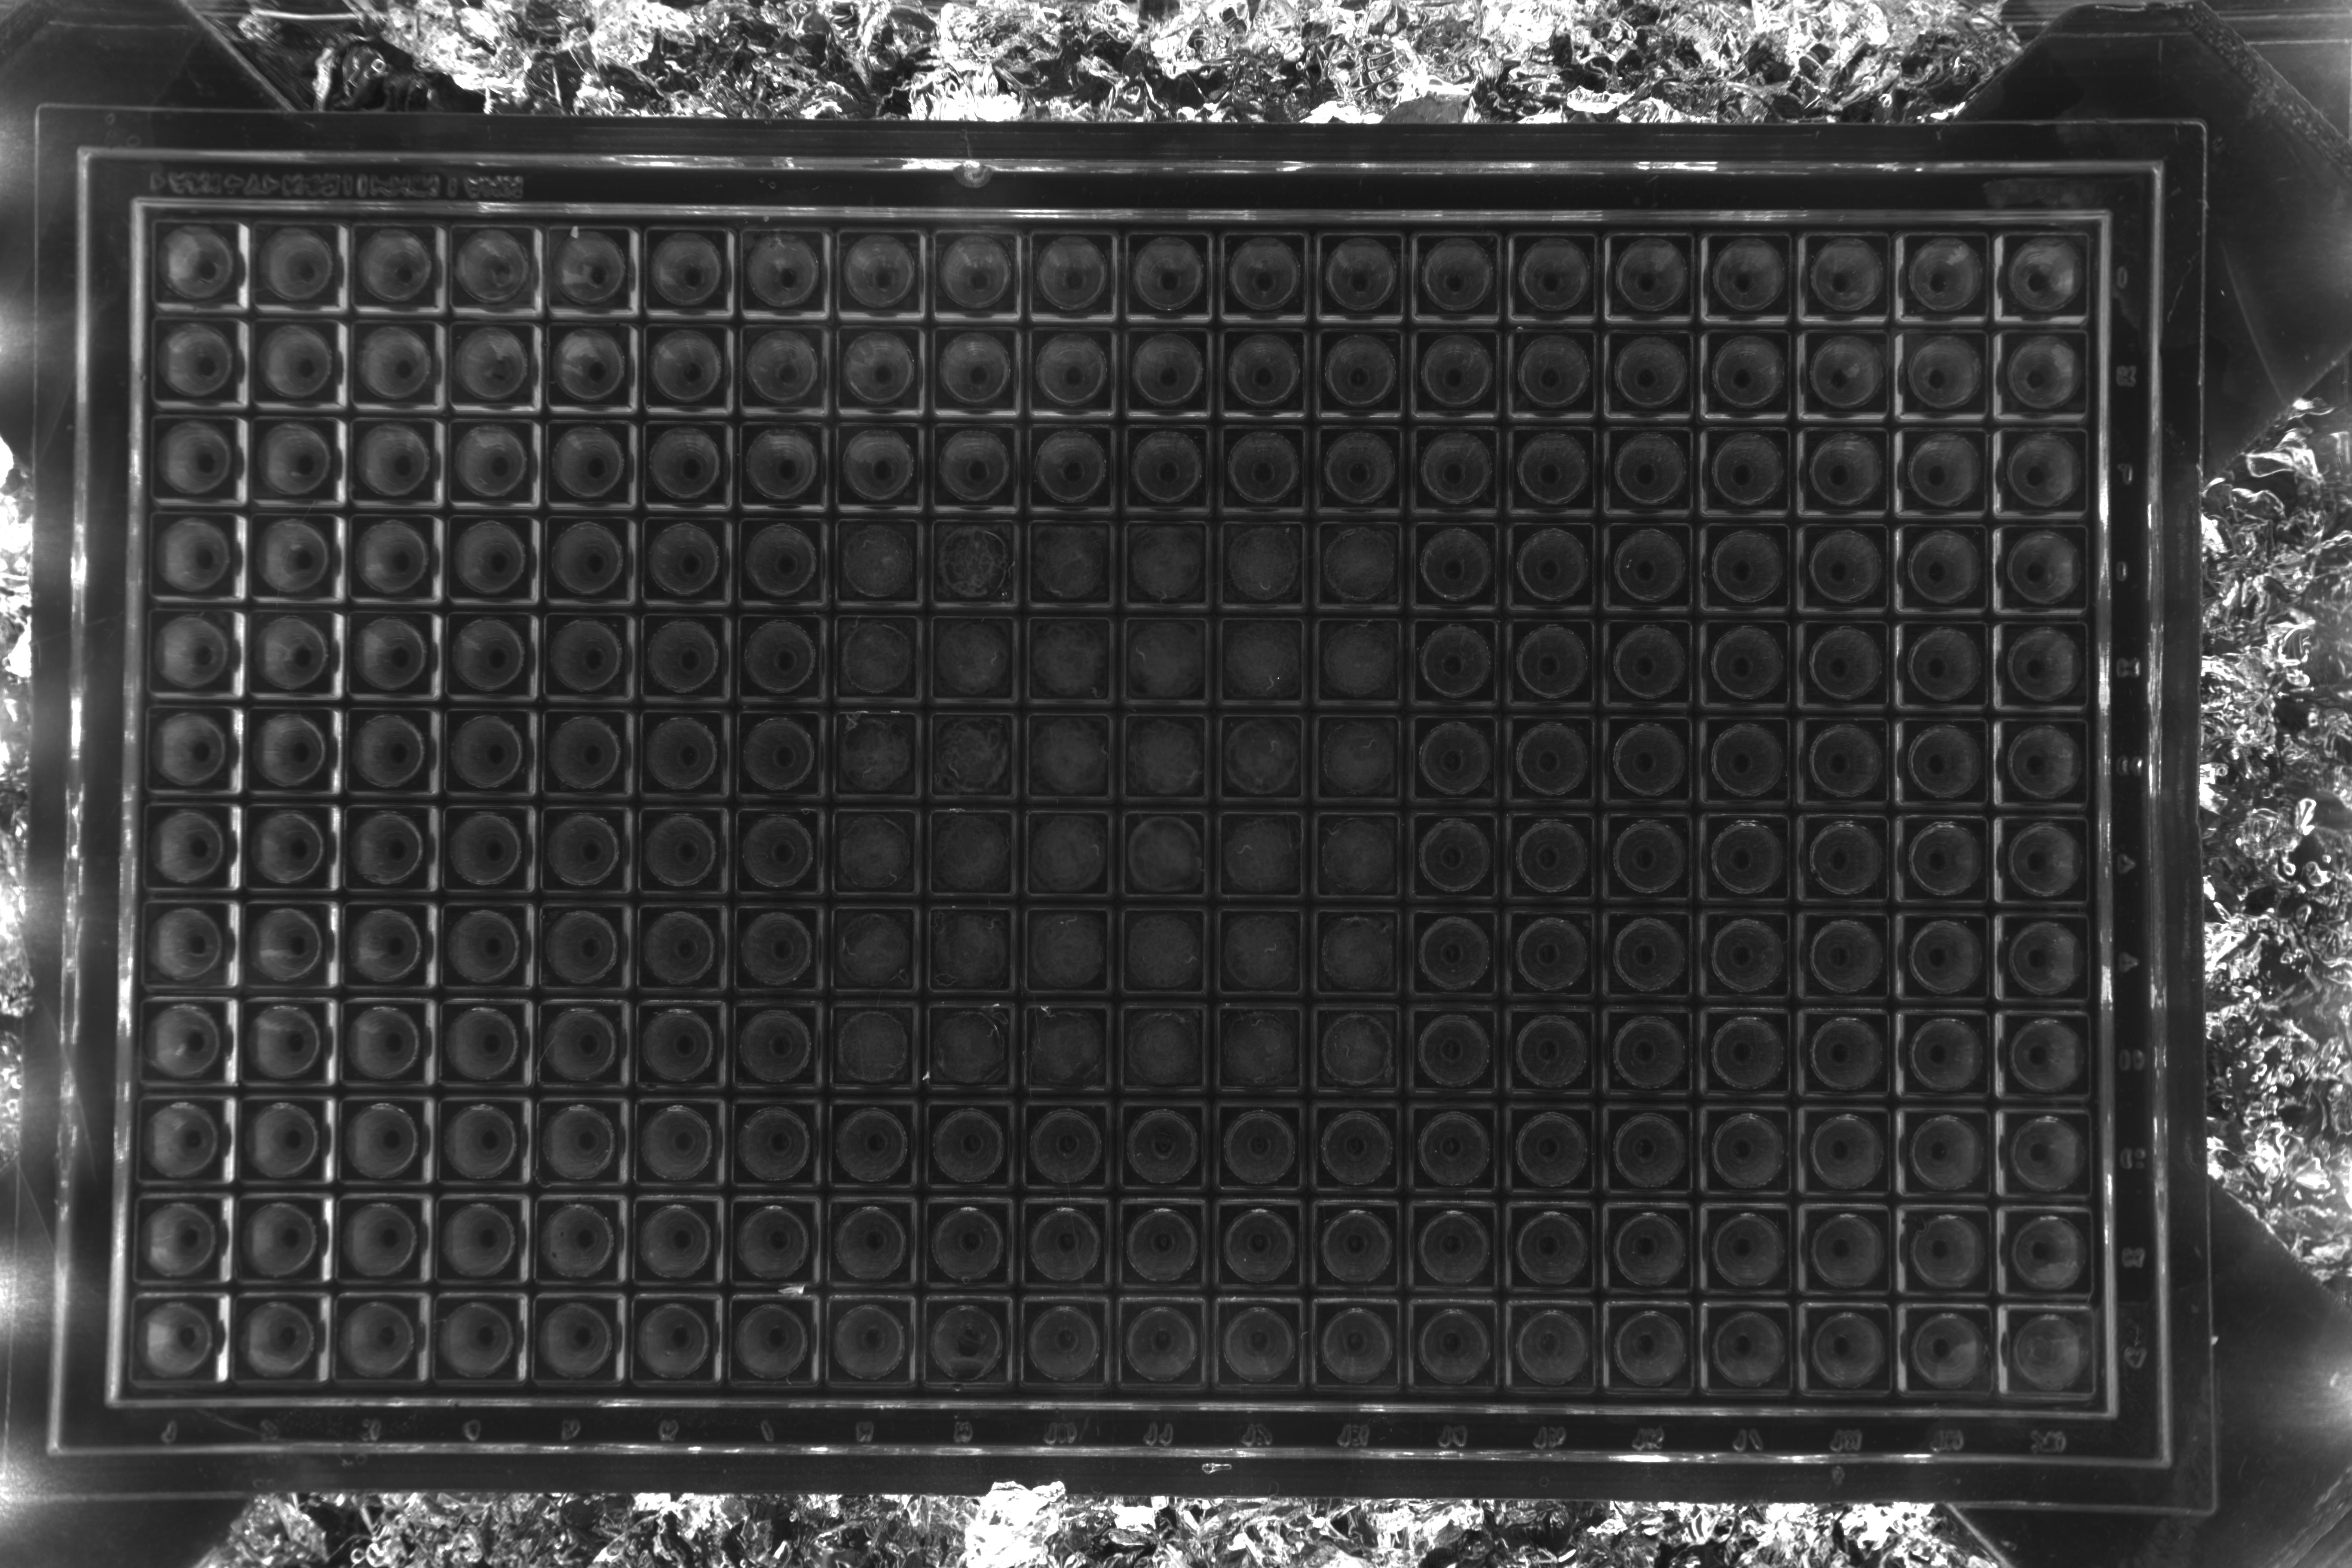WM_well: (397, 847, 486, 934), (689, 947, 779, 1034), (789, 268, 878, 355), (199, 945, 287, 1032), (205, 360, 292, 448), (303, 555, 390, 642), (303, 360, 390, 448), (486, 1340, 574, 1428), (499, 458, 586, 546), (595, 653, 682, 740), (686, 1241, 773, 1328), (789, 654, 877, 742), (884, 1141, 971, 1228), (980, 1337, 1067, 1424), (1272, 560, 1360, 647), (1370, 948, 1458, 1036), (1466, 754, 1554, 842), (1468, 948, 1556, 1036), (1470, 1342, 1557, 1430), (1764, 1150, 1851, 1237), (1858, 560, 1946, 647), (2060, 856, 2147, 943), (2061, 1053, 2149, 1141)
